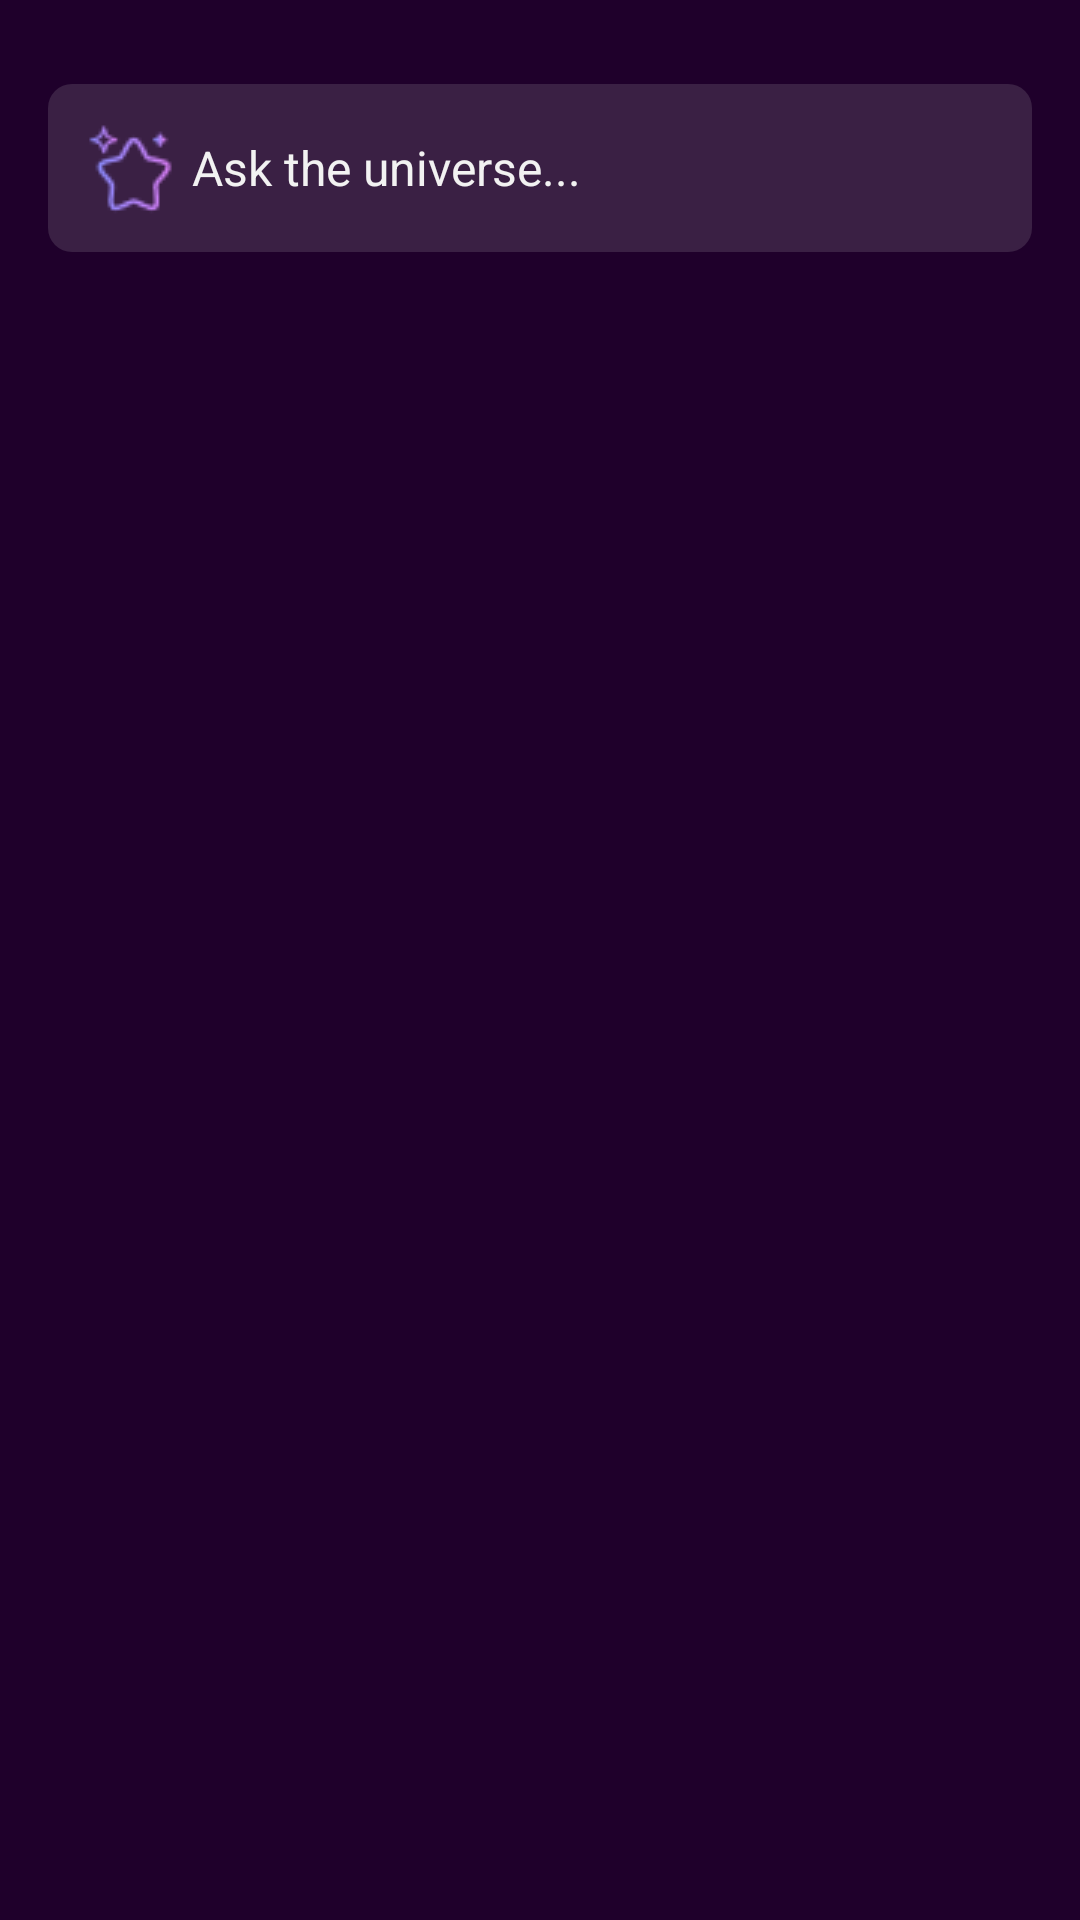

Locate icon controls on the screen. Image size 1080 × 1920, boxes as (x1, y1, x2, y2).
search star: (89, 125, 172, 211)
